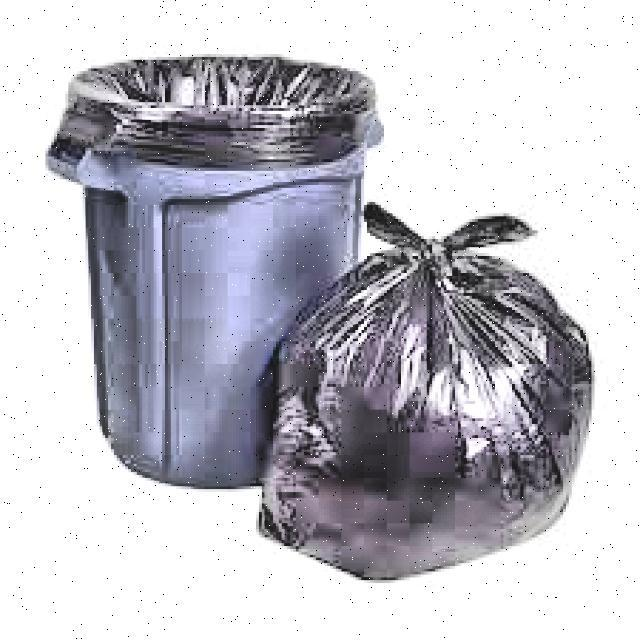Trashbag: (253, 256, 599, 582)
